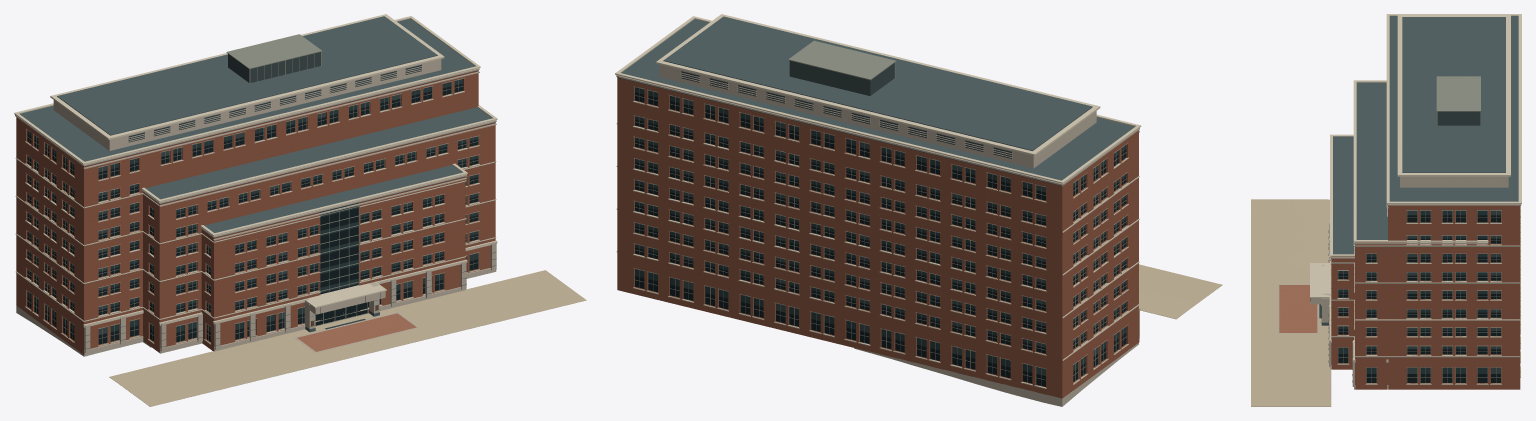
The model's file is questrom-full.glb.
3 views of the same model, side by side, from view 1: azimuth 30°, elevation 25°; view 2: azimuth 150°, elevation 25°; view 3: azimuth 270°, elevation 25° (orthographic). The views are drawn at different scales.
Visible parts, largest first — view 1: BU architecture · brick, BU architecture · roof, BU architecture · stone, BU ground · paving, BU architecture · trim, BU architecture · glassShade, BU architecture · frame, BU architecture · glass, BU architecture · inset, BU architecture · glassLight, BU ground · brickLight; view 2: BU architecture · brick, BU architecture · roof, BU architecture · glassShade, BU architecture · trim, BU architecture · stone, BU architecture · frame, BU architecture · glass, BU architecture · glassLight, BU ground · paving, BU architecture · inset; view 3: BU architecture · roof, BU architecture · brick, BU ground · paving, BU architecture · trim, BU architecture · frame, BU architecture · glassShade, BU architecture · stone, BU architecture · glass, BU ground · brickLight, BU architecture · glassLight, BU architecture · inset, BU ground · stone.
Boxes of the visible parts, x1,y1,x2,y2 form: BU architecture · brick: (16,70,495,354); BU architecture · roof: (20,16,492,332); BU architecture · stone: (15,59,496,356); BU ground · paving: (109,270,586,406); BU architecture · trim: (14,14,497,346); BU architecture · glassShade: (27,79,478,344); BU architecture · frame: (27,34,478,343); BU architecture · glass: (27,79,478,332); BU architecture · inset: (83,64,496,348); BU architecture · glassLight: (45,52,434,334); BU ground · brickLight: (297,313,416,351); BU architecture · brick: (617,77,1138,398); BU architecture · roof: (621,16,1134,180); BU architecture · glassShade: (635,92,1126,386); BU architecture · trim: (615,14,1141,388); BU architecture · stone: (616,65,1139,406); BU architecture · frame: (634,40,1126,387); BU architecture · glass: (635,87,1126,372); BU architecture · glassLight: (683,60,1097,375); BU ground · paving: (1139,264,1222,319); BU architecture · inset: (617,71,1062,361); BU architecture · roof: (1321,16,1518,325); BU architecture · brick: (1331,205,1520,389); BU ground · paving: (1251,199,1331,406); BU architecture · trim: (1310,14,1521,384); BU architecture · frame: (1338,76,1501,383); BU architecture · glassShade: (1338,215,1500,382); BU architecture · stone: (1310,176,1521,389); BU architecture · glass: (1338,210,1487,373); BU ground · brickLight: (1279,285,1317,332); BU architecture · glassLight: (1407,111,1500,373); BU architecture · inset: (1310,205,1520,382); BU ground · stone: (1277,284,1318,333).
Size of the model in its own units: 104 by 52.24 by 57.32.
12 materials, 8 textured.
